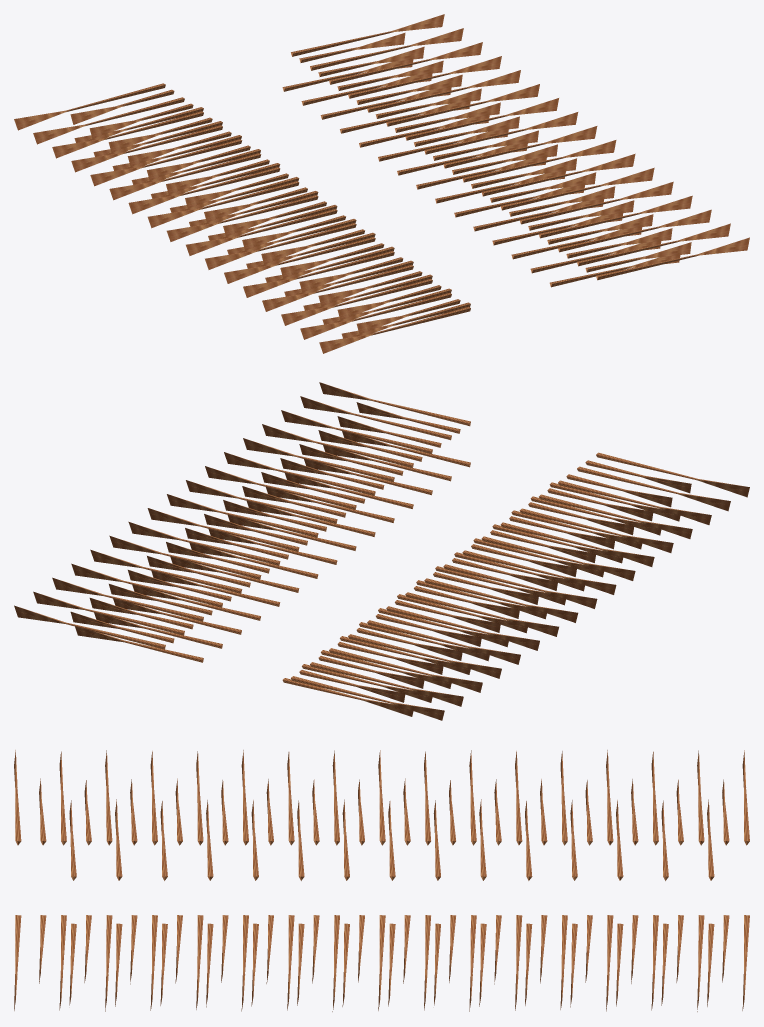
Rendered from pers_tri_oars.dae.
The picture shows the model from 3 angles, top to bottom: view 1: azimuth 30°, elevation 25°; view 2: azimuth 150°, elevation 25°; view 3: azimuth 270°, elevation 25°; orthographic projection. The views are drawn at different scales.
Visible parts, largest first — view 1: Oars_006; view 2: Oars_006; view 3: Oars_006.
Boxes of the visible parts, <box> form: Oars_006: <box>14,14,749,353</box>; Oars_006: <box>14,382,749,720</box>; Oars_006: <box>14,750,749,1011</box>.
Size of the model in its own units: 21.46 by 26.6 by 1.42.
